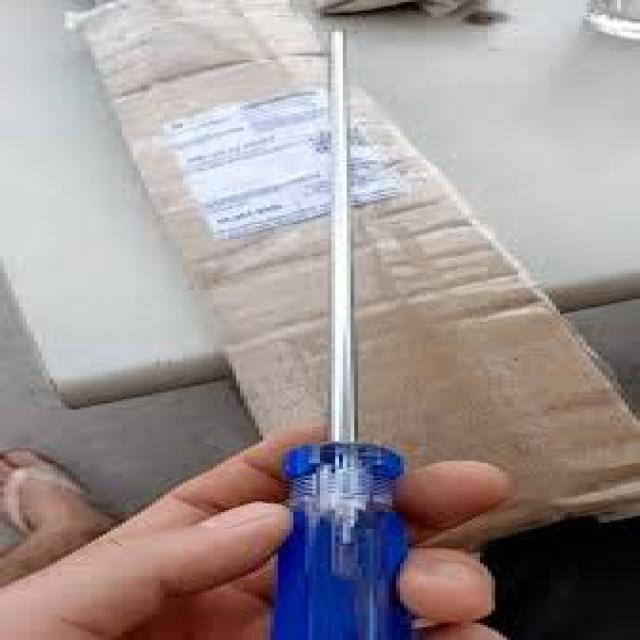screwdriver: (268, 21, 448, 640)
